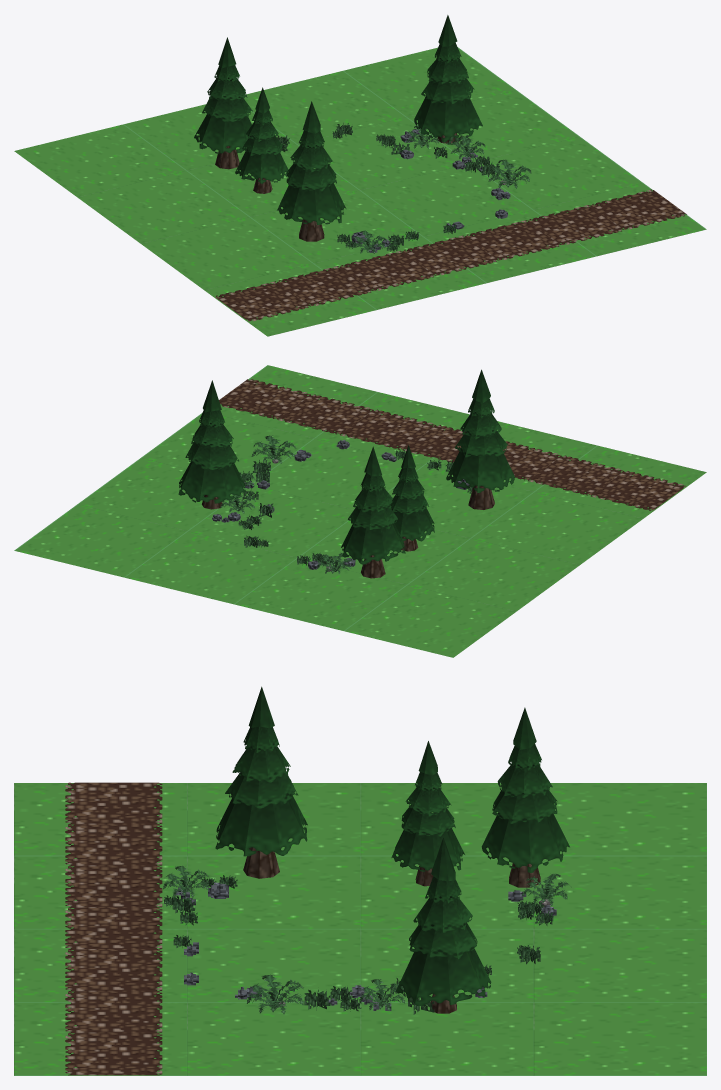
File: Outside.fbx
3 renders of one model, top to bottom at view 1: azimuth 30°, elevation 25°; view 2: azimuth 150°, elevation 25°; view 3: azimuth 270°, elevation 25°, orthographic. The views are drawn at different scales.
Visible parts, largest first — view 1: Outside; view 2: Outside; view 3: Outside.
Boxes of the visible parts, x1,y1,x2,y2 form: Outside: [14, 15, 706, 336]; Outside: [14, 365, 706, 657]; Outside: [14, 686, 706, 1075].
Size of the model in its own units: 759 by 243 by 759.
Materials: 2 (2 with a texture image).
